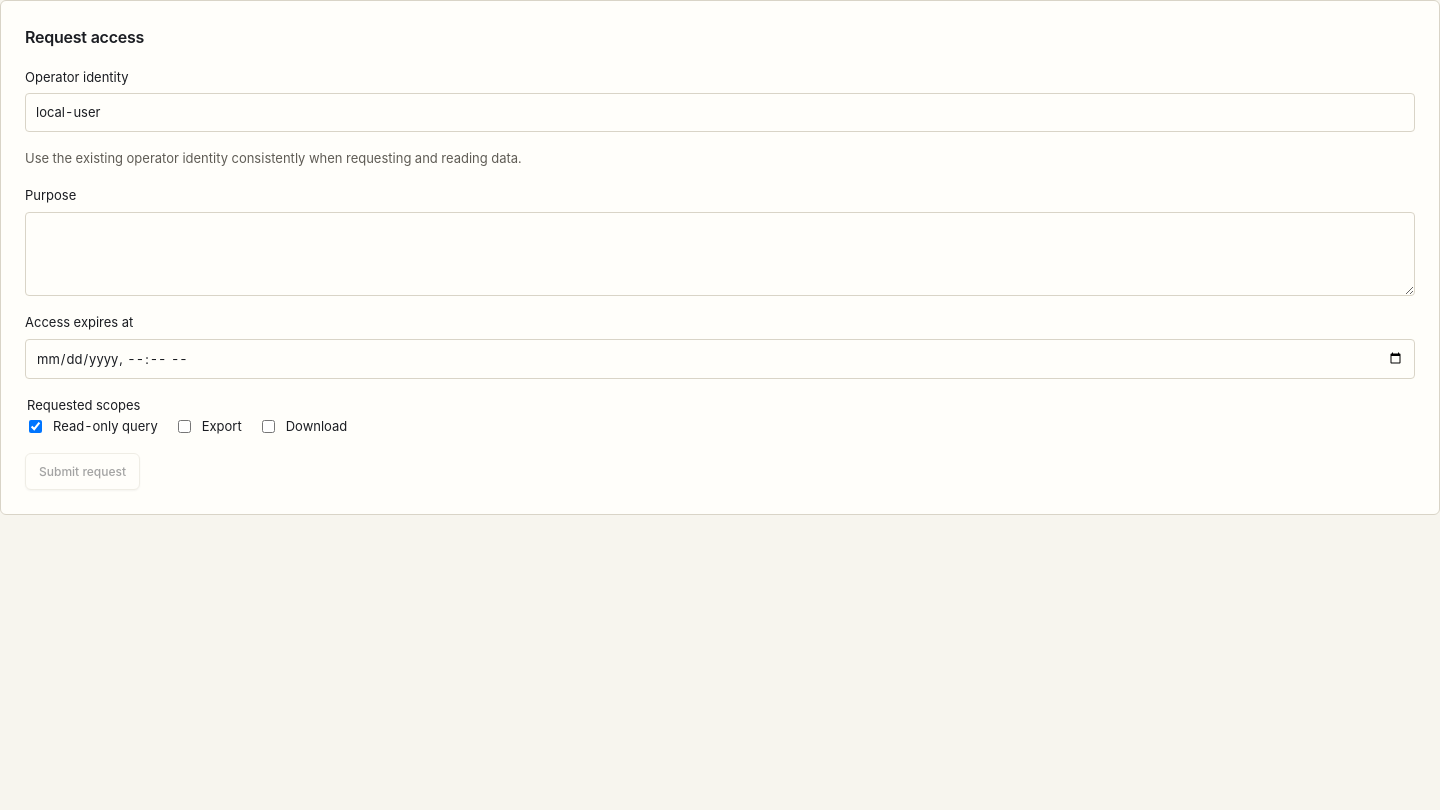
reuses the same explicit operation ID when retrying an unchanged application
Type "Retry review" into the text box labelled "Purpose" at (720, 254), box left=25, top=212, right=1415, bottom=296
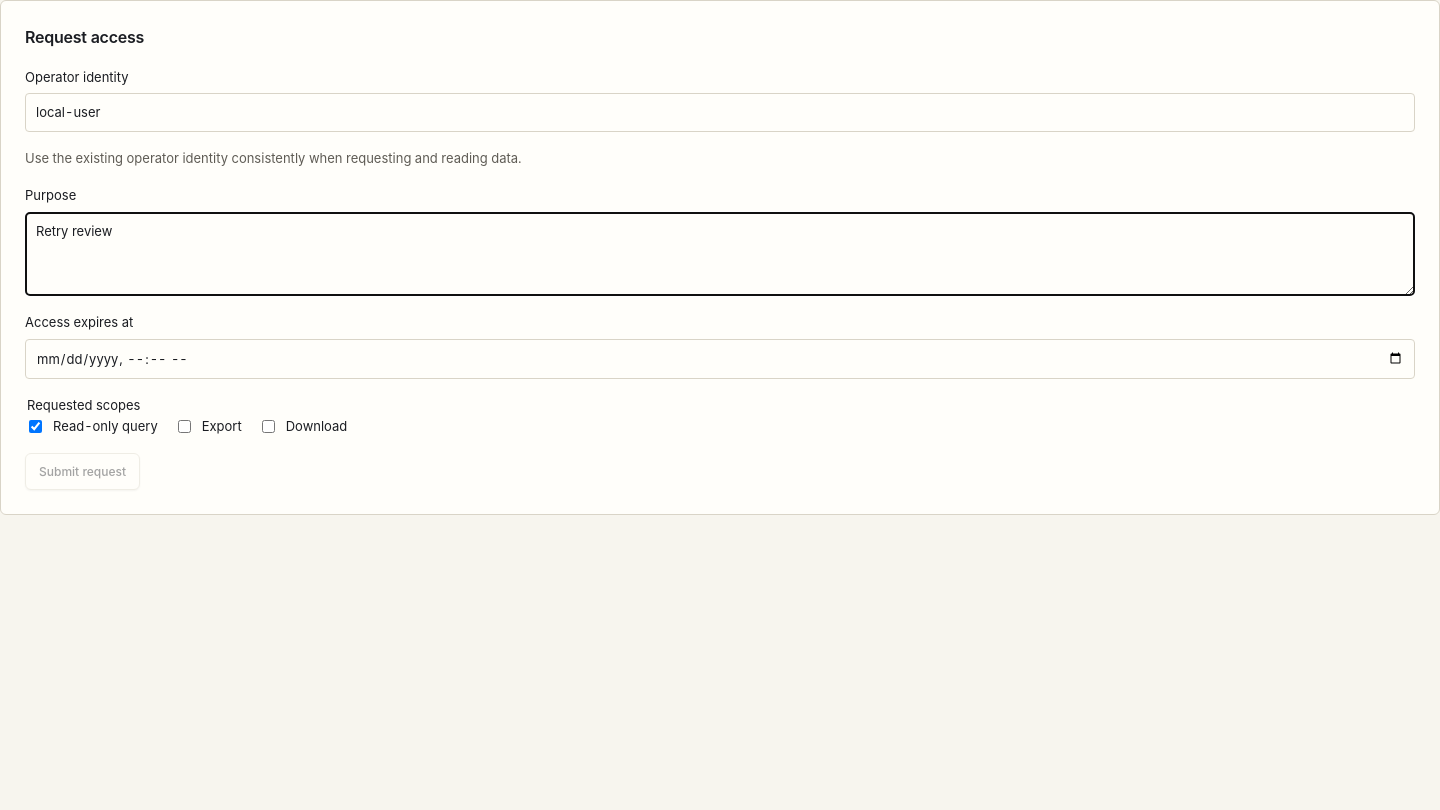
Type "2099-10-28T12:00" into the field labelled "Access expires at" at (720, 359), box left=25, top=339, right=1415, bottom=379
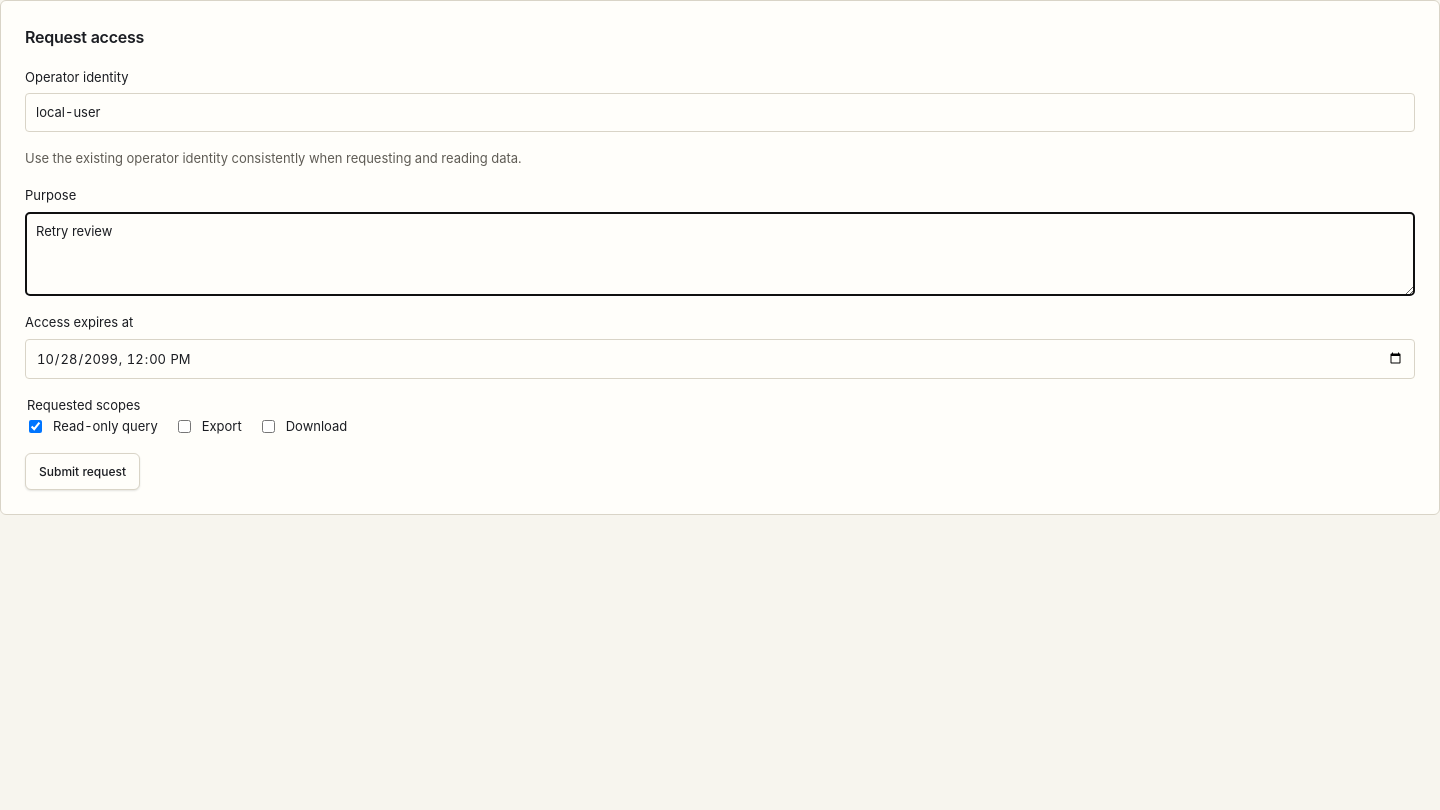
Click the button "Submit request" at (83, 472), box left=25, top=453, right=140, bottom=490
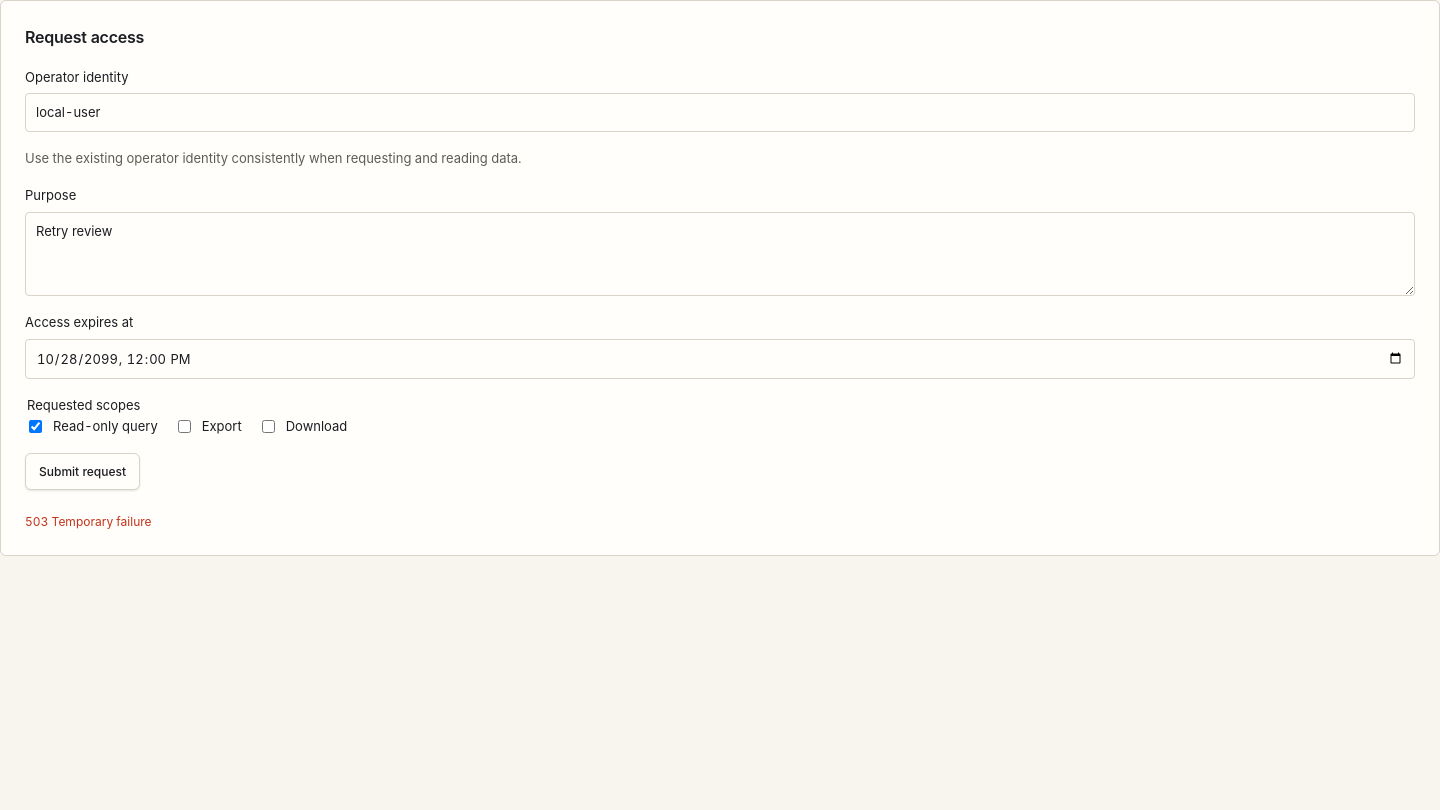
Now the message reads "503 Temporary failure", box left=25, top=514, right=152, bottom=529
Click the button "Submit request" at (83, 472), box left=25, top=453, right=140, bottom=490
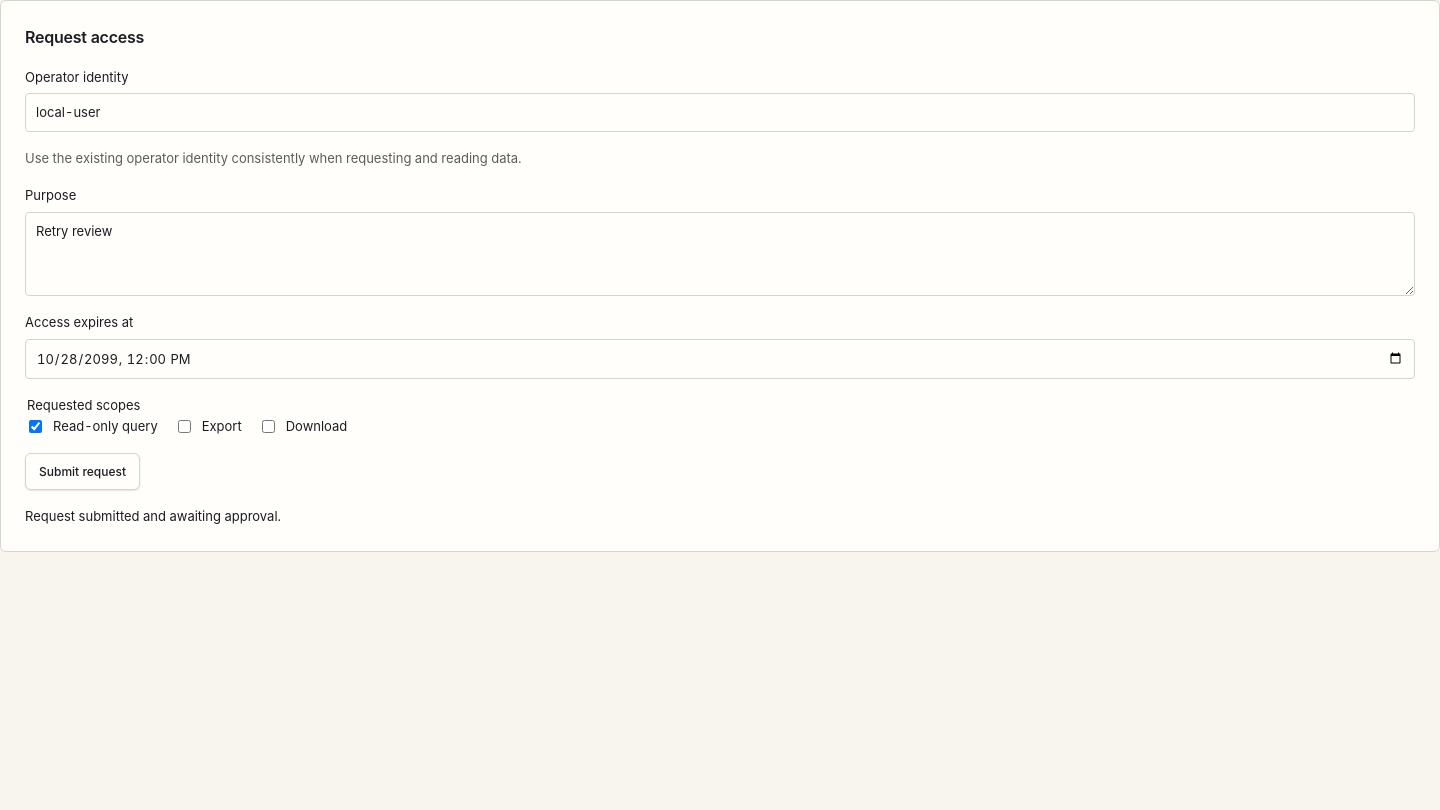
Now the text "Request submitted and awaiting approval." is shown, box left=25, top=508, right=281, bottom=524
